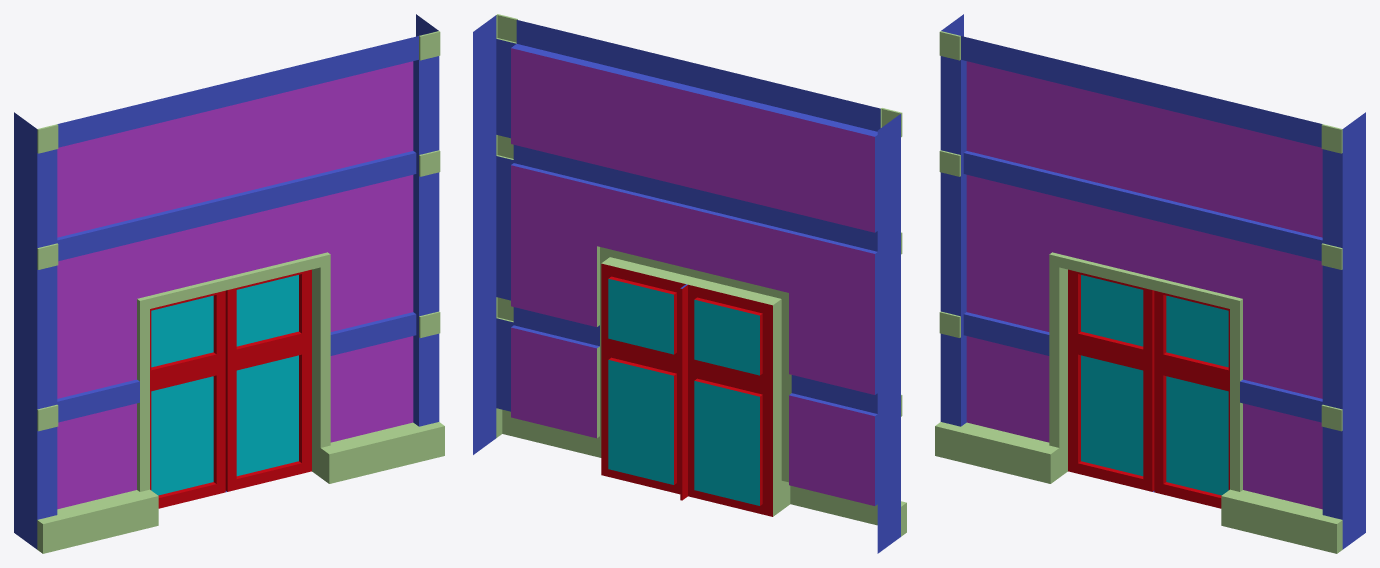
Rendered from HallDoorWay.fbx.
The picture shows the model from 3 angles, left to right: view 1: azimuth 30°, elevation 25°; view 2: azimuth 150°, elevation 25°; view 3: azimuth 330°, elevation 25°; orthographic projection.
Parts seen in each view (by area): view 1: BasicWithDoor; view 2: BasicWithDoor; view 3: BasicWithDoor.
Boxes of the visible parts, <box> form: BasicWithDoor: <box>14,14,444,553</box>; BasicWithDoor: <box>473,14,906,553</box>; BasicWithDoor: <box>935,14,1365,553</box>.
Size of the model in its own units: 4 by 4 by 0.5.
